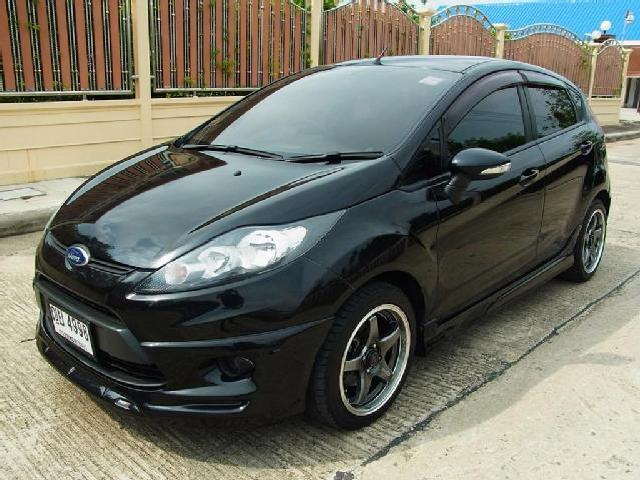sedan: (32, 53, 614, 430)
